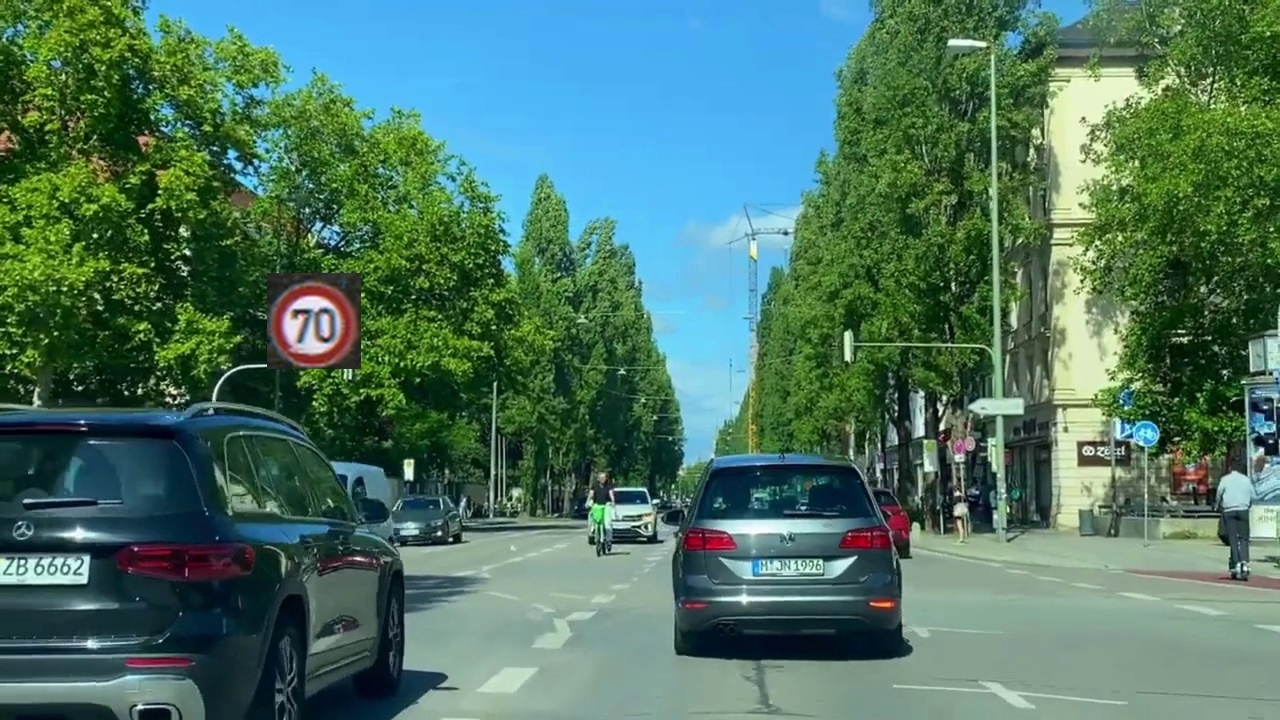Speed 70: (267, 273, 361, 369)
